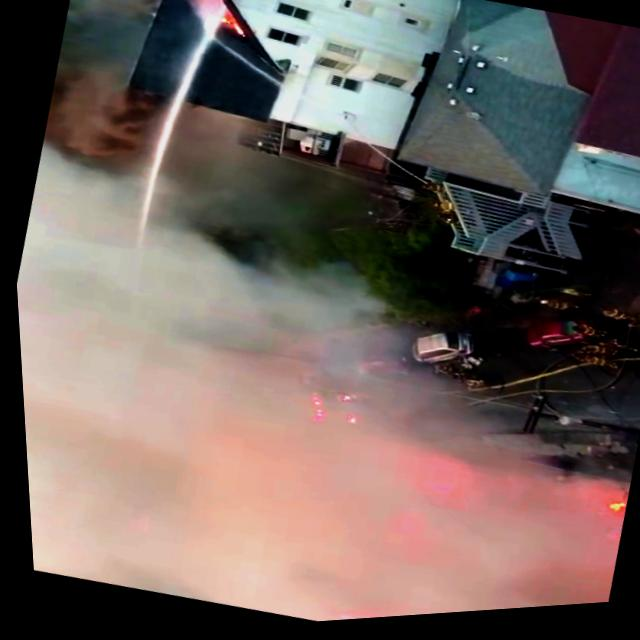smoke: (14, 293, 375, 640)
